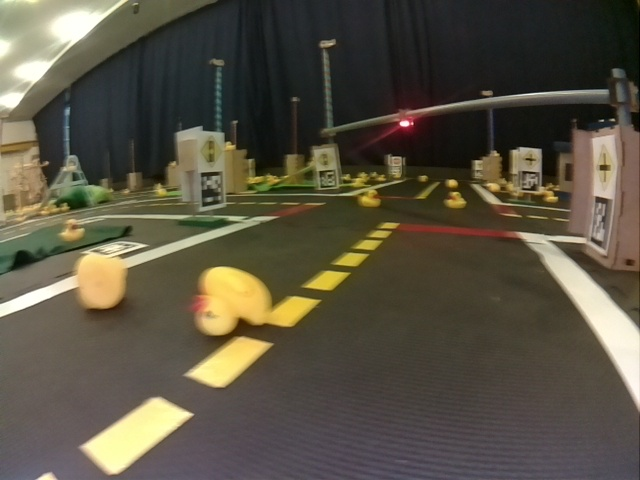Duckie: (195, 268, 271, 334), (76, 255, 127, 309), (60, 220, 84, 239), (358, 189, 382, 207), (445, 191, 466, 208), (543, 191, 556, 203)
Intersection sign: (594, 144, 616, 191), (522, 149, 541, 168)
QR code: (590, 196, 612, 250), (83, 241, 149, 257), (199, 170, 224, 207), (521, 171, 540, 190), (319, 170, 337, 188)
Signal sign: (200, 136, 223, 165), (317, 150, 334, 167)
Traffic light: (399, 109, 414, 129)
